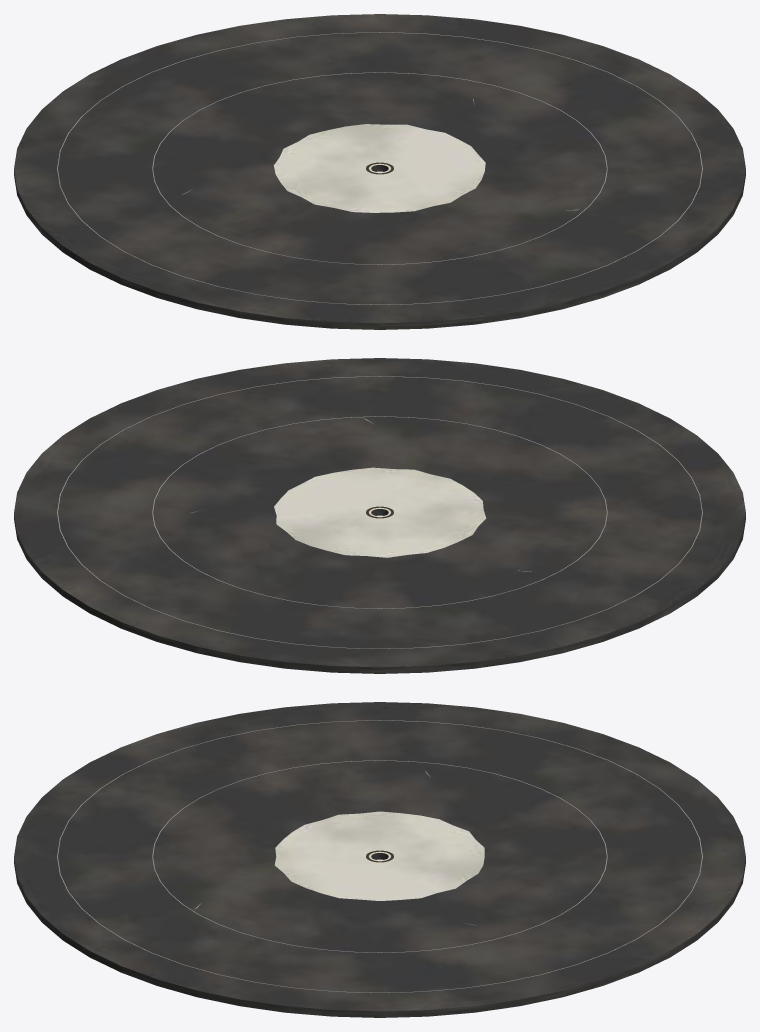
File: P18_record_disc_v1.glb
The picture shows the model from 3 angles, top to bottom: view 1: azimuth 30°, elevation 25°; view 2: azimuth 150°, elevation 25°; view 3: azimuth 270°, elevation 25°; orthographic projection.
Visible parts, largest first — view 1: Record_disc; view 2: Record_disc; view 3: Record_disc.
Boxes of the visible parts, <box> form: Record_disc: <box>14,14,745,329</box>; Record_disc: <box>14,358,745,673</box>; Record_disc: <box>14,702,745,1017</box>.
Size of the model in its own units: 0.3 by 0.00307 by 0.3.
4 materials, 4 textured.
